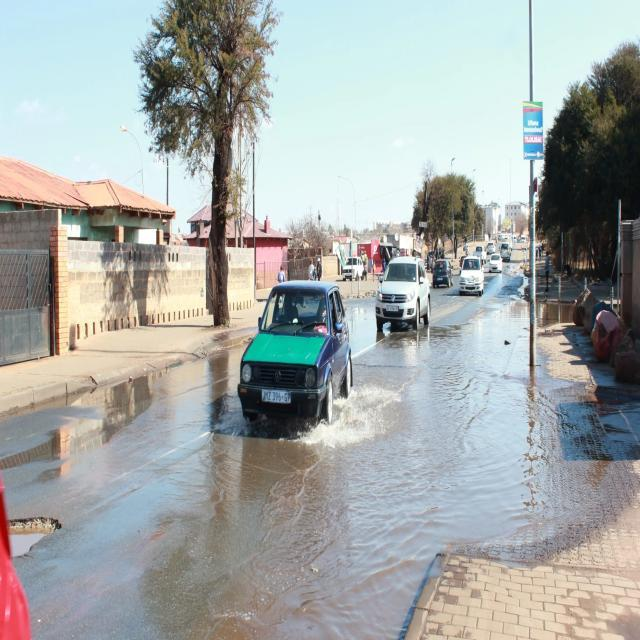water_leak: (168, 322, 638, 637)
